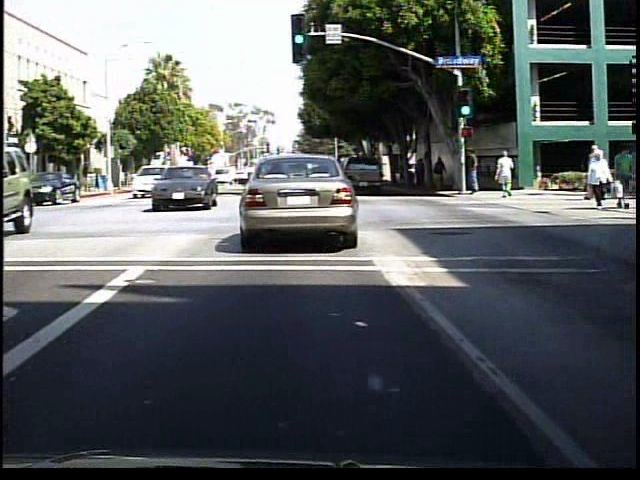person: (584, 149, 615, 209), (586, 142, 609, 205), (615, 145, 635, 209), (491, 149, 514, 201), (467, 146, 488, 202), (436, 154, 452, 192), (421, 157, 434, 191)
